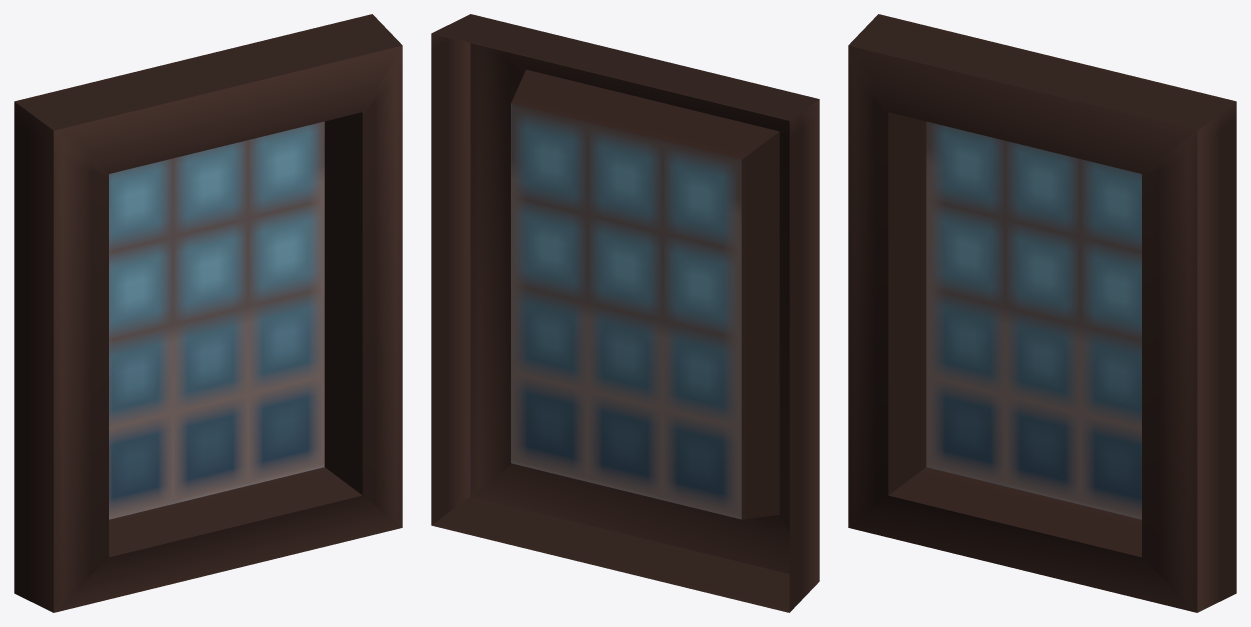
File: window_v6_001.fbx
3 renders of one model, left to right at view 1: azimuth 30°, elevation 25°; view 2: azimuth 150°, elevation 25°; view 3: azimuth 330°, elevation 25°, orthographic.
Visible parts, largest first — view 1: window_v6_001; view 2: window_v6_001; view 3: window_v6_001.
Part boxes in pixels (box(x1,y1,x2,y2)): window_v6_001: box(14, 14, 402, 612); window_v6_001: box(431, 14, 819, 612); window_v6_001: box(848, 14, 1236, 612).
Bounding box in the file's own units: 109 × 143 × 22.31.
